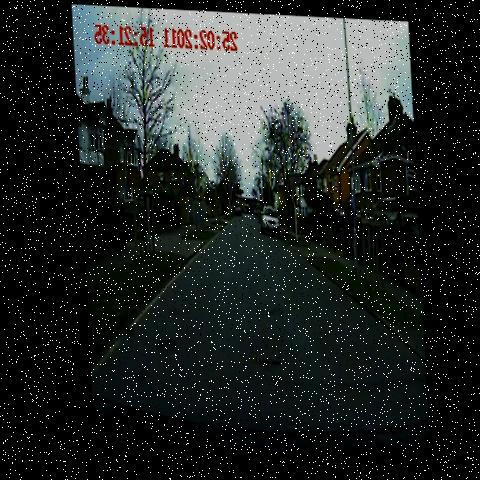pothole: (243, 327, 286, 372), (139, 324, 181, 358), (120, 359, 152, 393), (154, 300, 192, 321), (108, 319, 136, 343), (266, 292, 282, 323)
